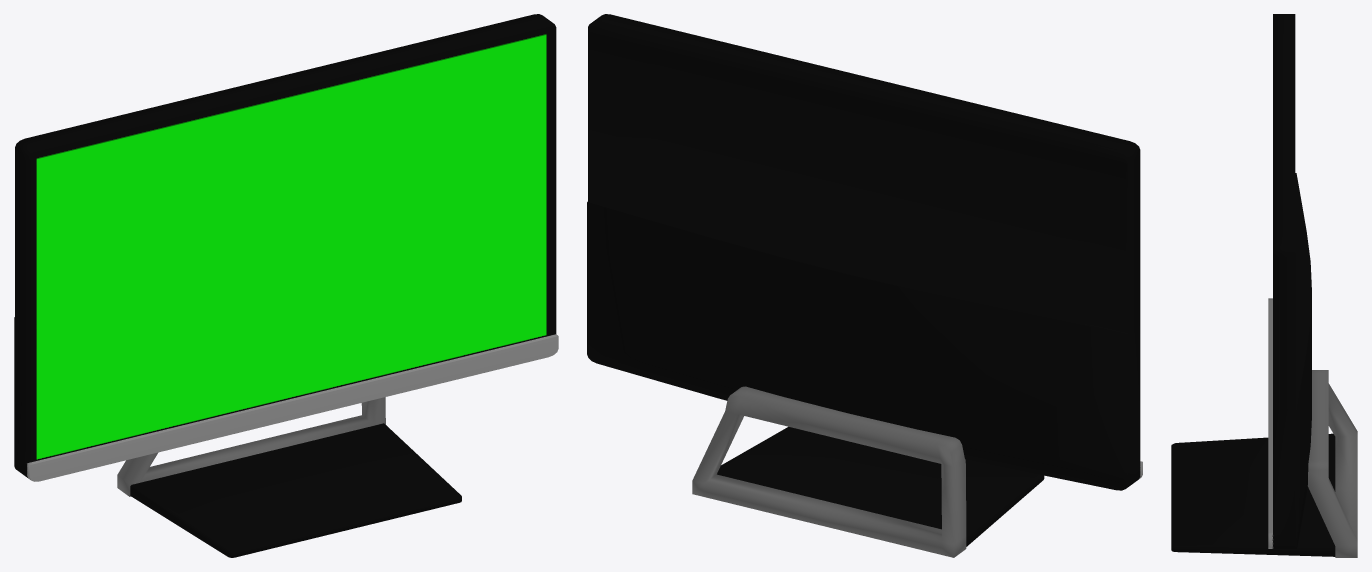
File: BigMonitor.gltf
3 renders of one model, left to right at view 1: azimuth 30°, elevation 25°; view 2: azimuth 150°, elevation 25°; view 3: azimuth 270°, elevation 25°, orthographic. The views are drawn at different scales.
Parts seen in each view (by area): view 1: Beeg Monitor Screen; view 2: Beeg Monitor Screen; view 3: Beeg Monitor Screen.
Part boxes in pixels (bbox=[...]): Beeg Monitor Screen: bbox=[14, 14, 558, 557]; Beeg Monitor Screen: bbox=[587, 14, 1142, 557]; Beeg Monitor Screen: bbox=[1171, 14, 1357, 557].
Bounding box in the file's own units: 0.5 × 0.366 × 0.1663.
1 material, 1 textured.
